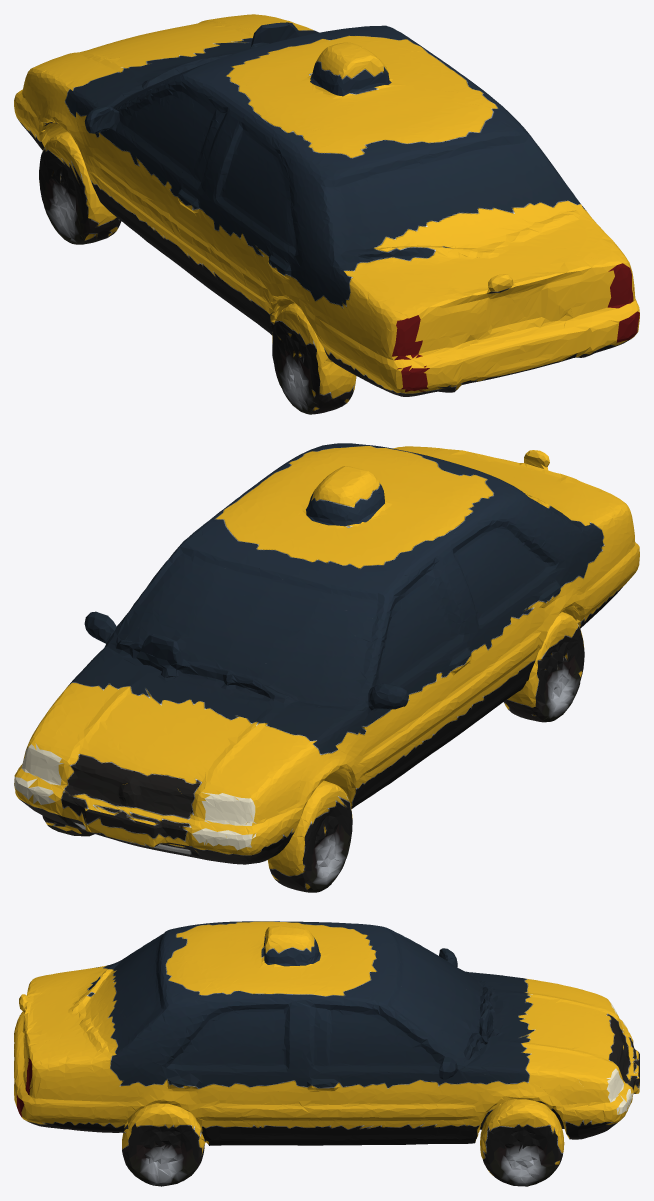
The model's file is taxi.glb.
3 renders of one model, top to bottom at view 1: azimuth 30°, elevation 25°; view 2: azimuth 150°, elevation 25°; view 3: azimuth 270°, elevation 25°, orthographic. The views are drawn at different scales.
Parts seen in each view (by area): view 1: body, taillights_rear, wheel_0, wheel_1; view 2: body, headlights_front, wheel_0, wheel_1; view 3: body, wheel_3, wheel_2, headlights_front.
Part boxes in pixels (x1,y1,x2,y2): body: (14,14,639,413); taillights_rear: (392,263,639,391); wheel_0: (43,178,101,244); wheel_1: (276,350,315,414); body: (14,443,639,891); headlights_front: (14,743,256,850); wheel_0: (301,824,350,892); wheel_1: (542,655,580,722); body: (14,921,639,1184); wheel_3: (126,1143,198,1186); wheel_2: (490,1142,555,1186); headlights_front: (606,1001,633,1114).
Size of the model in its own units: 91.58 by 73.81 by 200.
7 materials, 1 textured.
